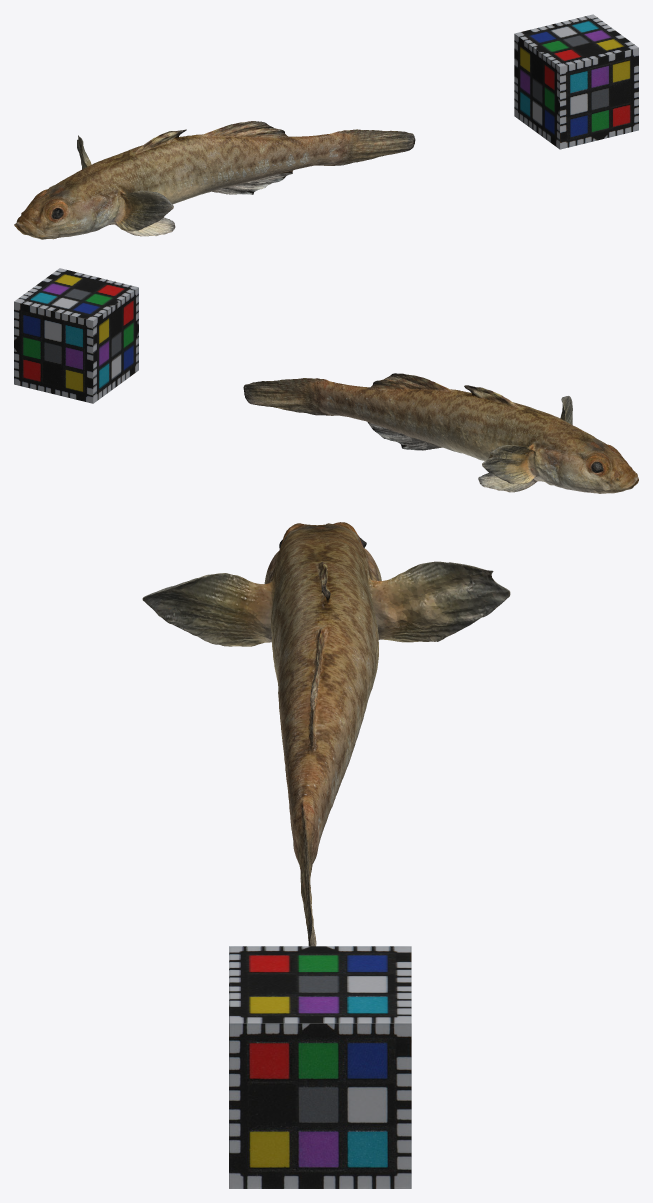
3 views of the same model, one above another, from view 1: azimuth 30°, elevation 25°; view 2: azimuth 150°, elevation 25°; view 3: azimuth 270°, elevation 25° (orthographic). The views are drawn at different scales.
Visible parts, largest first — view 1: QS1473-W02-1-1, _Cube; view 2: QS1473-W02-1-1, _Cube; view 3: _Cube, QS1473-W02-1-1.
Boxes of the visible parts, bbox=[...] form: QS1473-W02-1-1: bbox=[14, 121, 415, 239]; _Cube: bbox=[514, 14, 638, 149]; QS1473-W02-1-1: bbox=[243, 373, 638, 493]; _Cube: bbox=[14, 268, 138, 403]; _Cube: bbox=[229, 946, 411, 1188]; QS1473-W02-1-1: bbox=[142, 522, 510, 946].
Size of the model in its own units: 0.0759 by 0.0114 by 0.0202.
2 materials, 2 textured.
